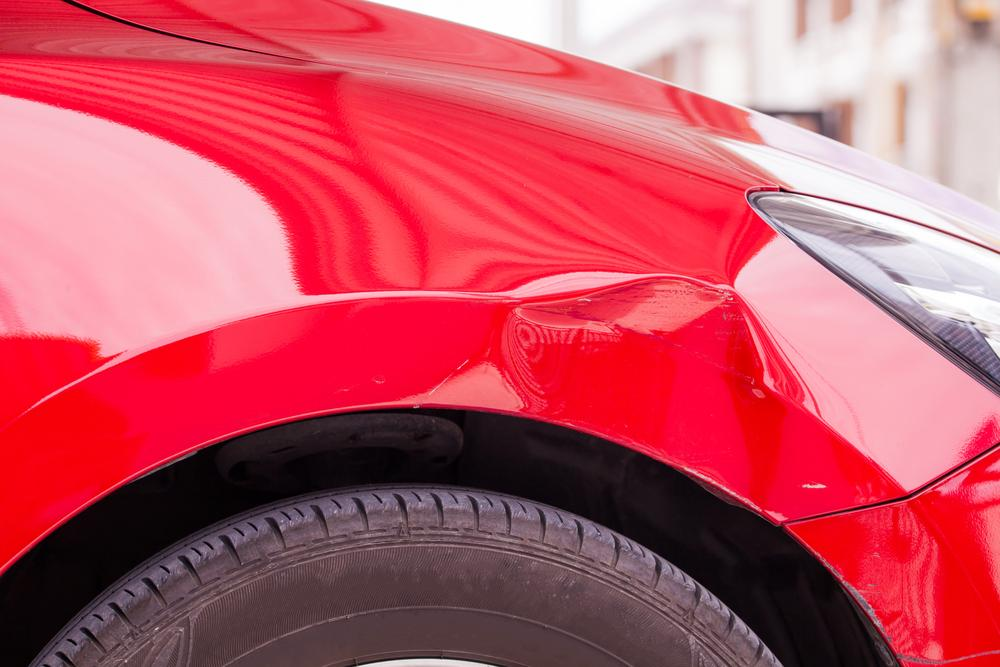dent: (509, 274, 785, 510)
